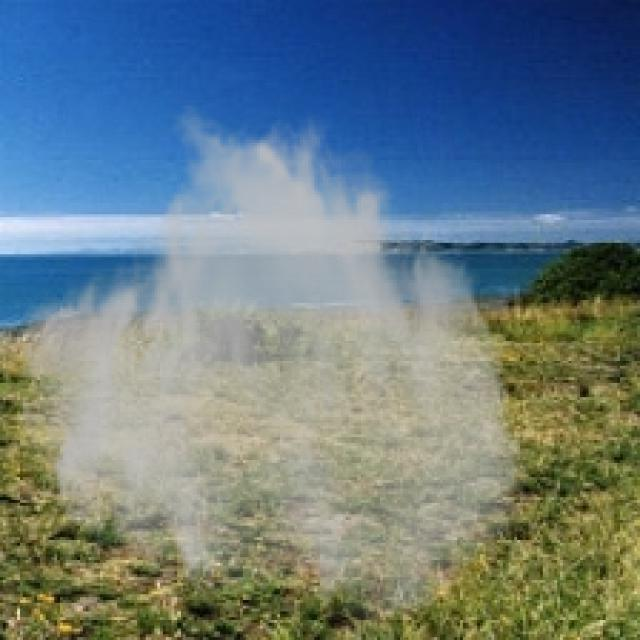smoke: (14, 103, 532, 626)
